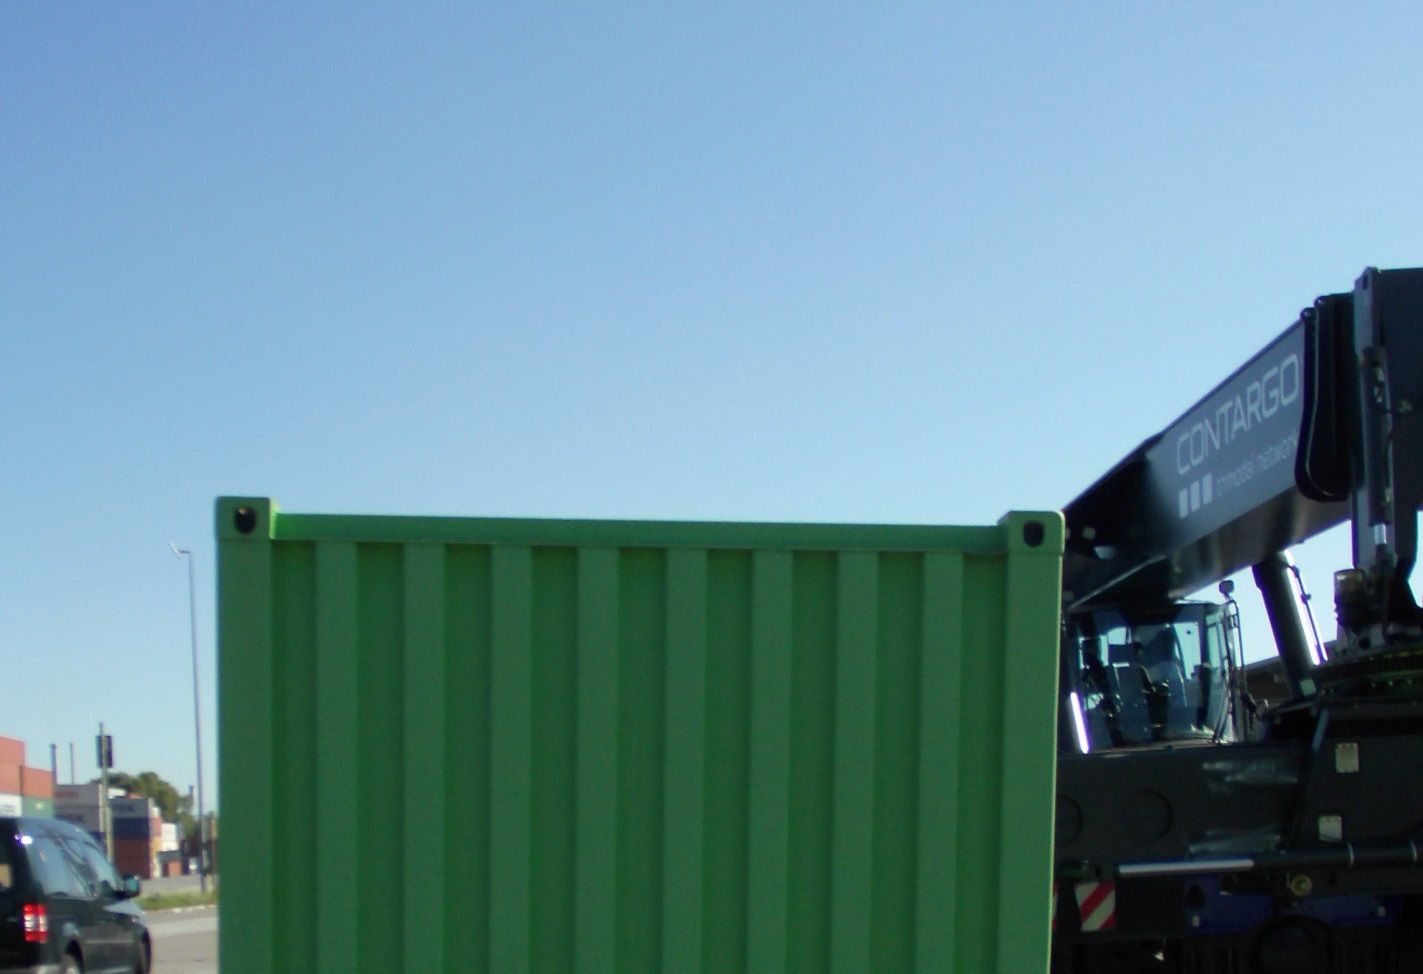container_no_door: (199, 485, 1070, 974)
